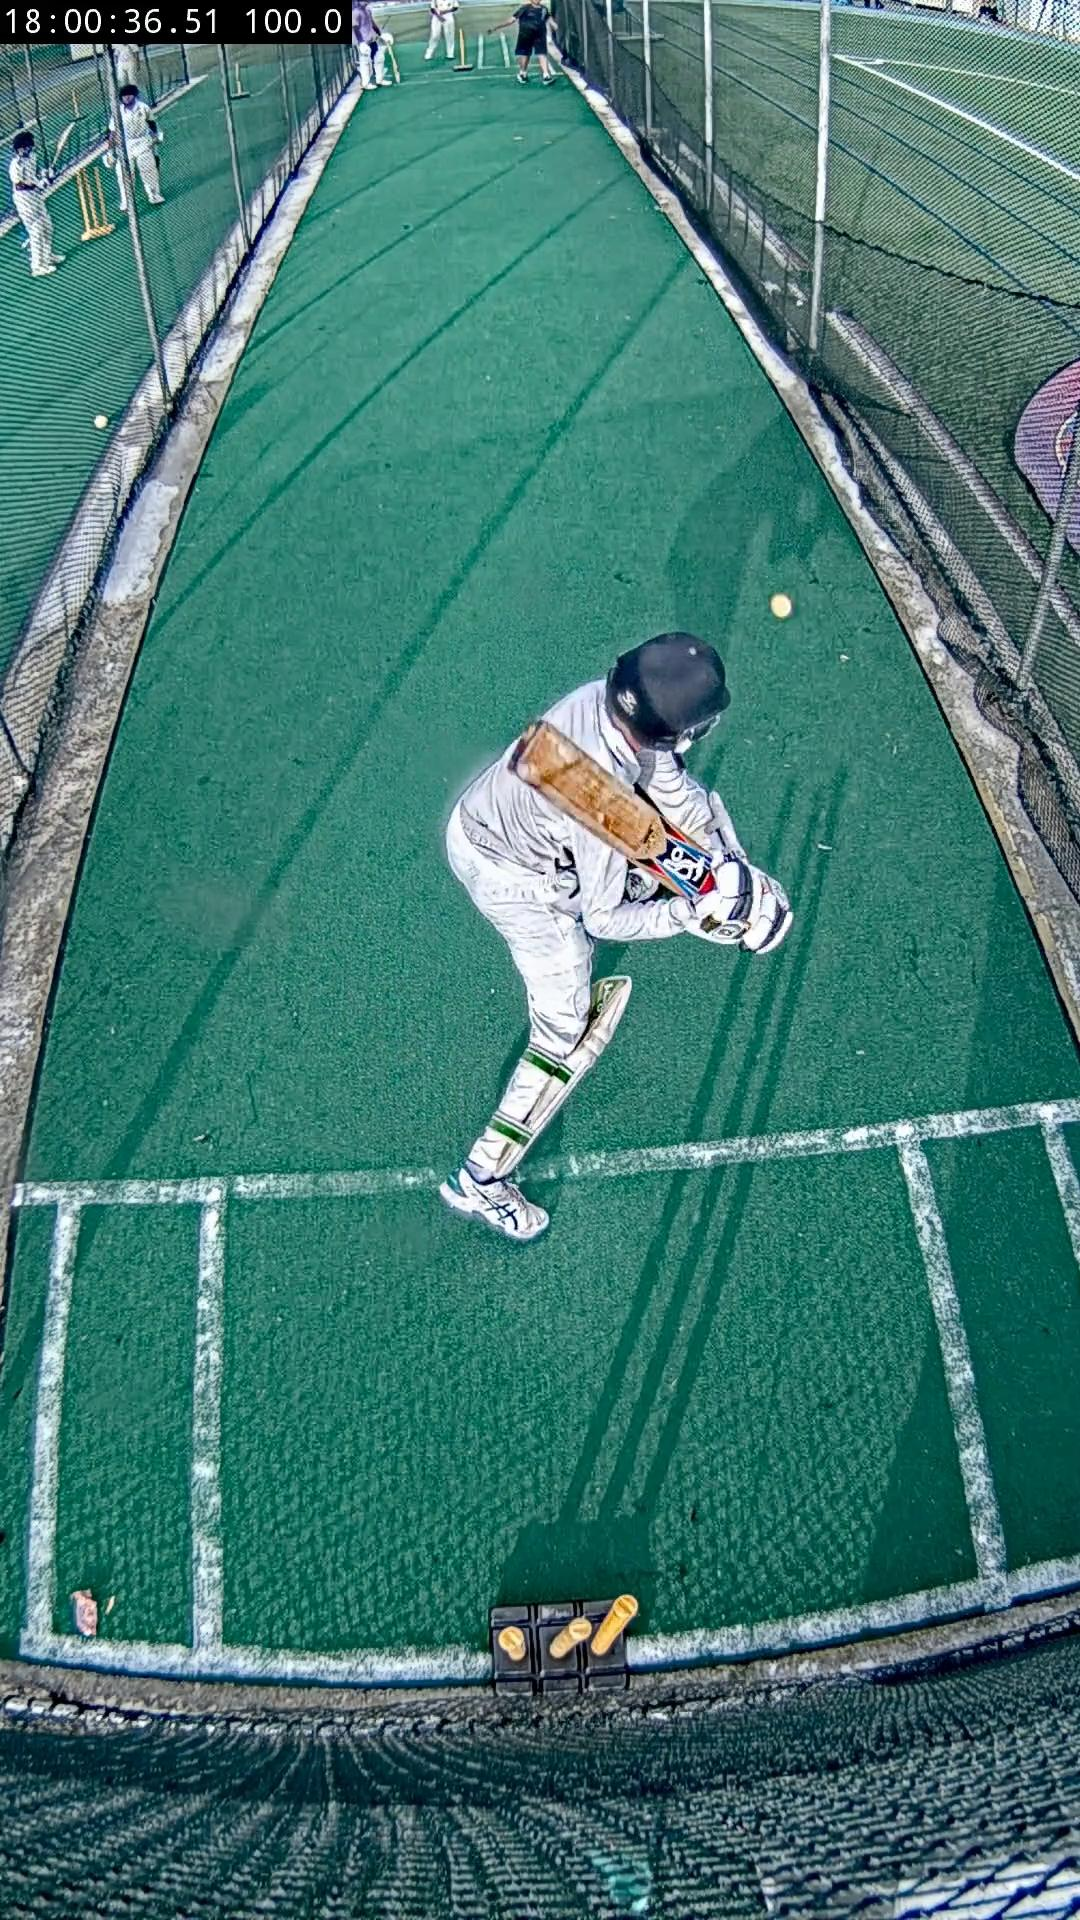ball: (769, 592, 791, 618)
bat: (514, 720, 712, 899)
gloves: (686, 855, 791, 952)
helmet: (608, 630, 732, 752)
pads: (496, 976, 634, 1180)
stumps: (492, 1594, 637, 1695)
